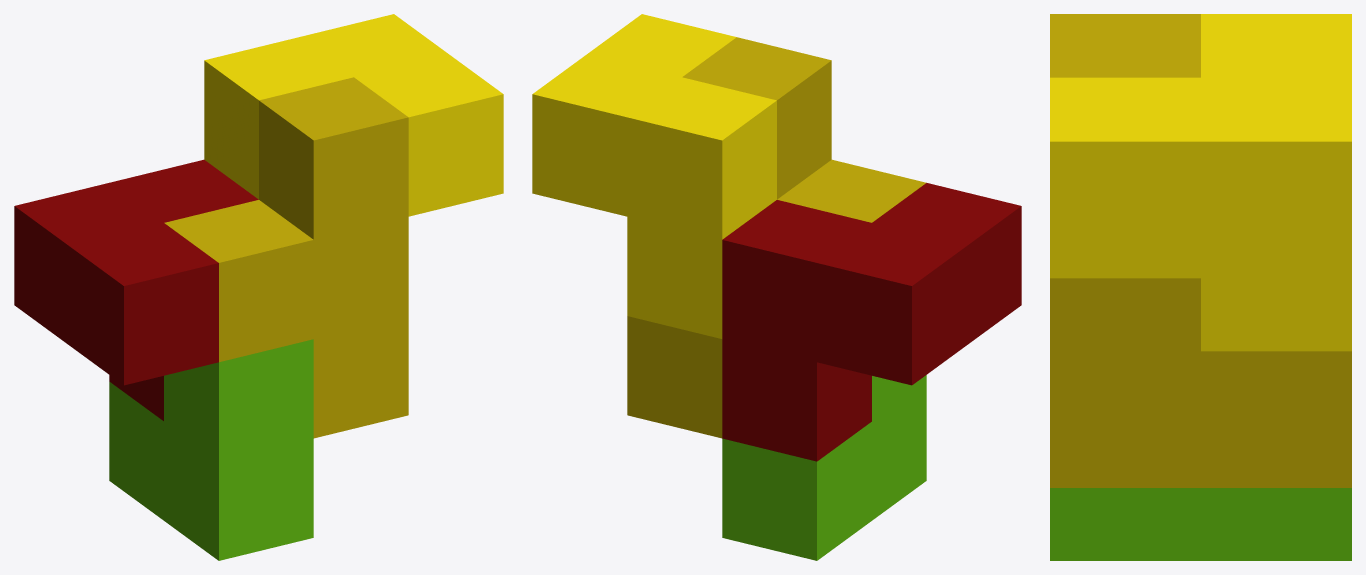
The picture shows the model from 3 angles, left to right: view 1: azimuth 30°, elevation 25°; view 2: azimuth 150°, elevation 25°; view 3: azimuth 270°, elevation 25°; orthographic projection. The views are drawn at different scales.
Parts seen in each view (by area): view 1: mergedBlocks(Clone); view 2: mergedBlocks(Clone); view 3: mergedBlocks(Clone).
Boxes of the visible parts, x1,y1,x2,y2 form: mergedBlocks(Clone): [14, 14, 503, 560]; mergedBlocks(Clone): [532, 14, 1021, 560]; mergedBlocks(Clone): [1050, 14, 1351, 560].
Bounding box in the file's own units: 4 × 4 × 2.
4 materials, 4 textured.
